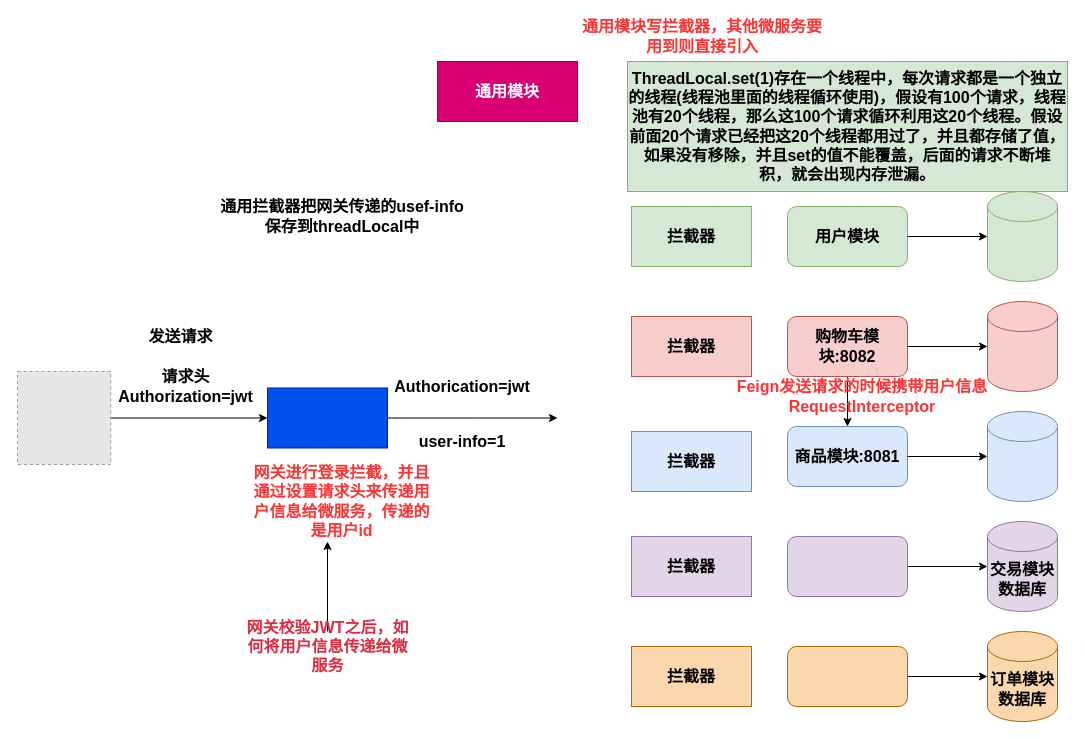
The diagram is 1085 pixels wide and 739 high, and some of its shapes have lost their labels. Grey dashed boxes stand in for pictures. Here are the shapes that lost their labels. From the top down, the centre of each, then its label:
(x=1022, y=236): 用户模块数据库
(x=1022, y=346): 购物车模块数据库
(x=327, y=417): 网关
(x=1022, y=456): 商品模块数据库
(x=847, y=566): 交易模块
(x=847, y=676): 订单模块
